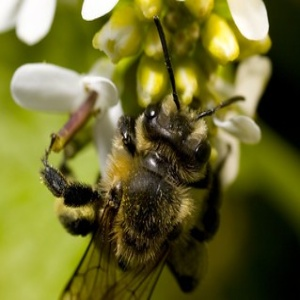bee: (39, 17, 249, 300)
